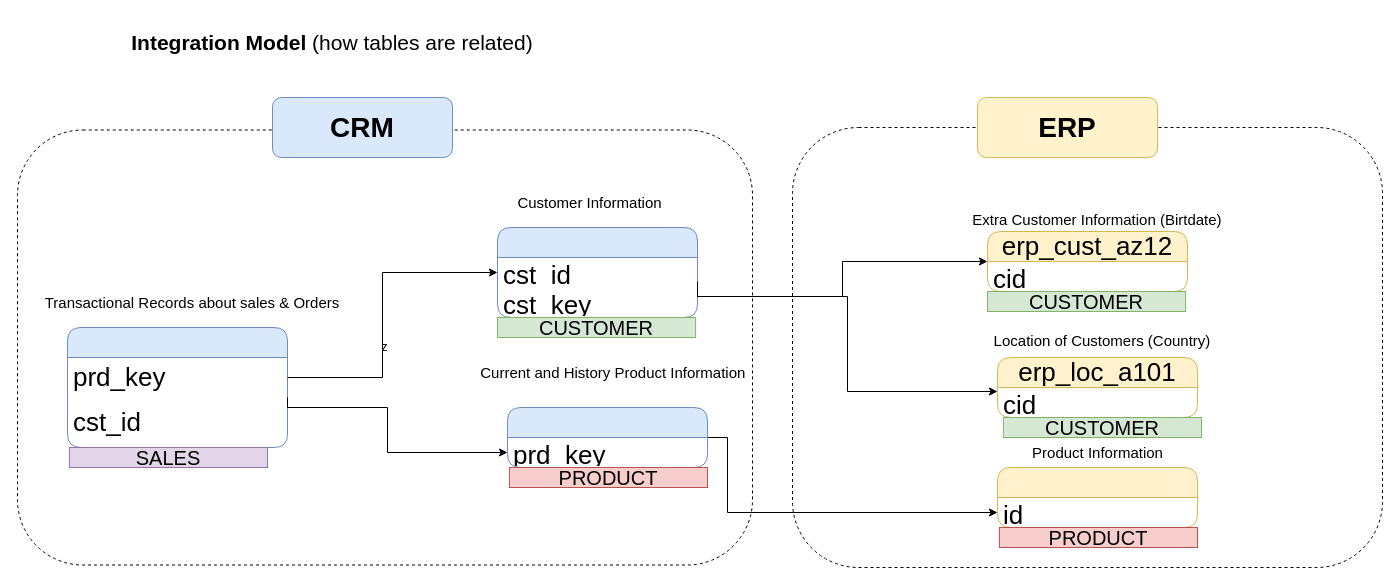
The diagram is 1400 pixels wide and 585 high, and some of its shapes have lost their labels. Here are the shapes that lost their labels. From the top down, the box of each, then its label:
(496, 226, 698, 318): crm_cust_info
(66, 326, 288, 448): crm_sales_details
(506, 406, 708, 468): crm_prd_info
(996, 466, 1198, 528): erp_px_cat_g1v2
